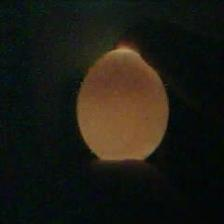infertile: (76, 45, 170, 168)
